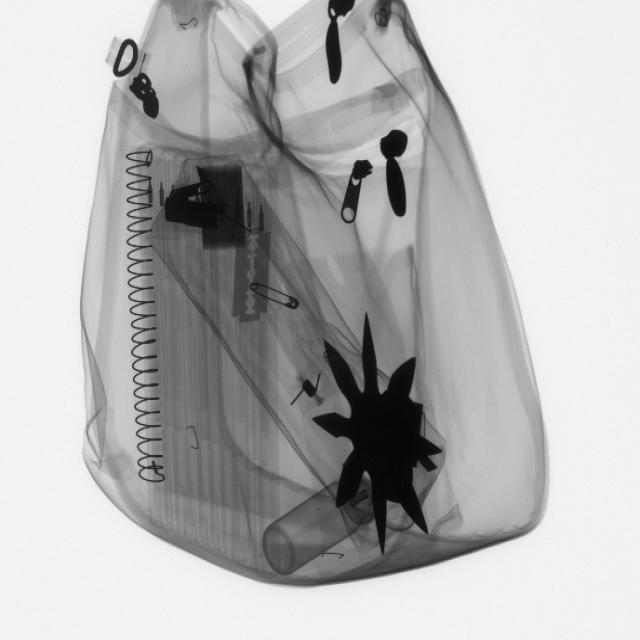BLADE: (223, 215, 277, 333)
SHURIKEN: (318, 312, 443, 554)
